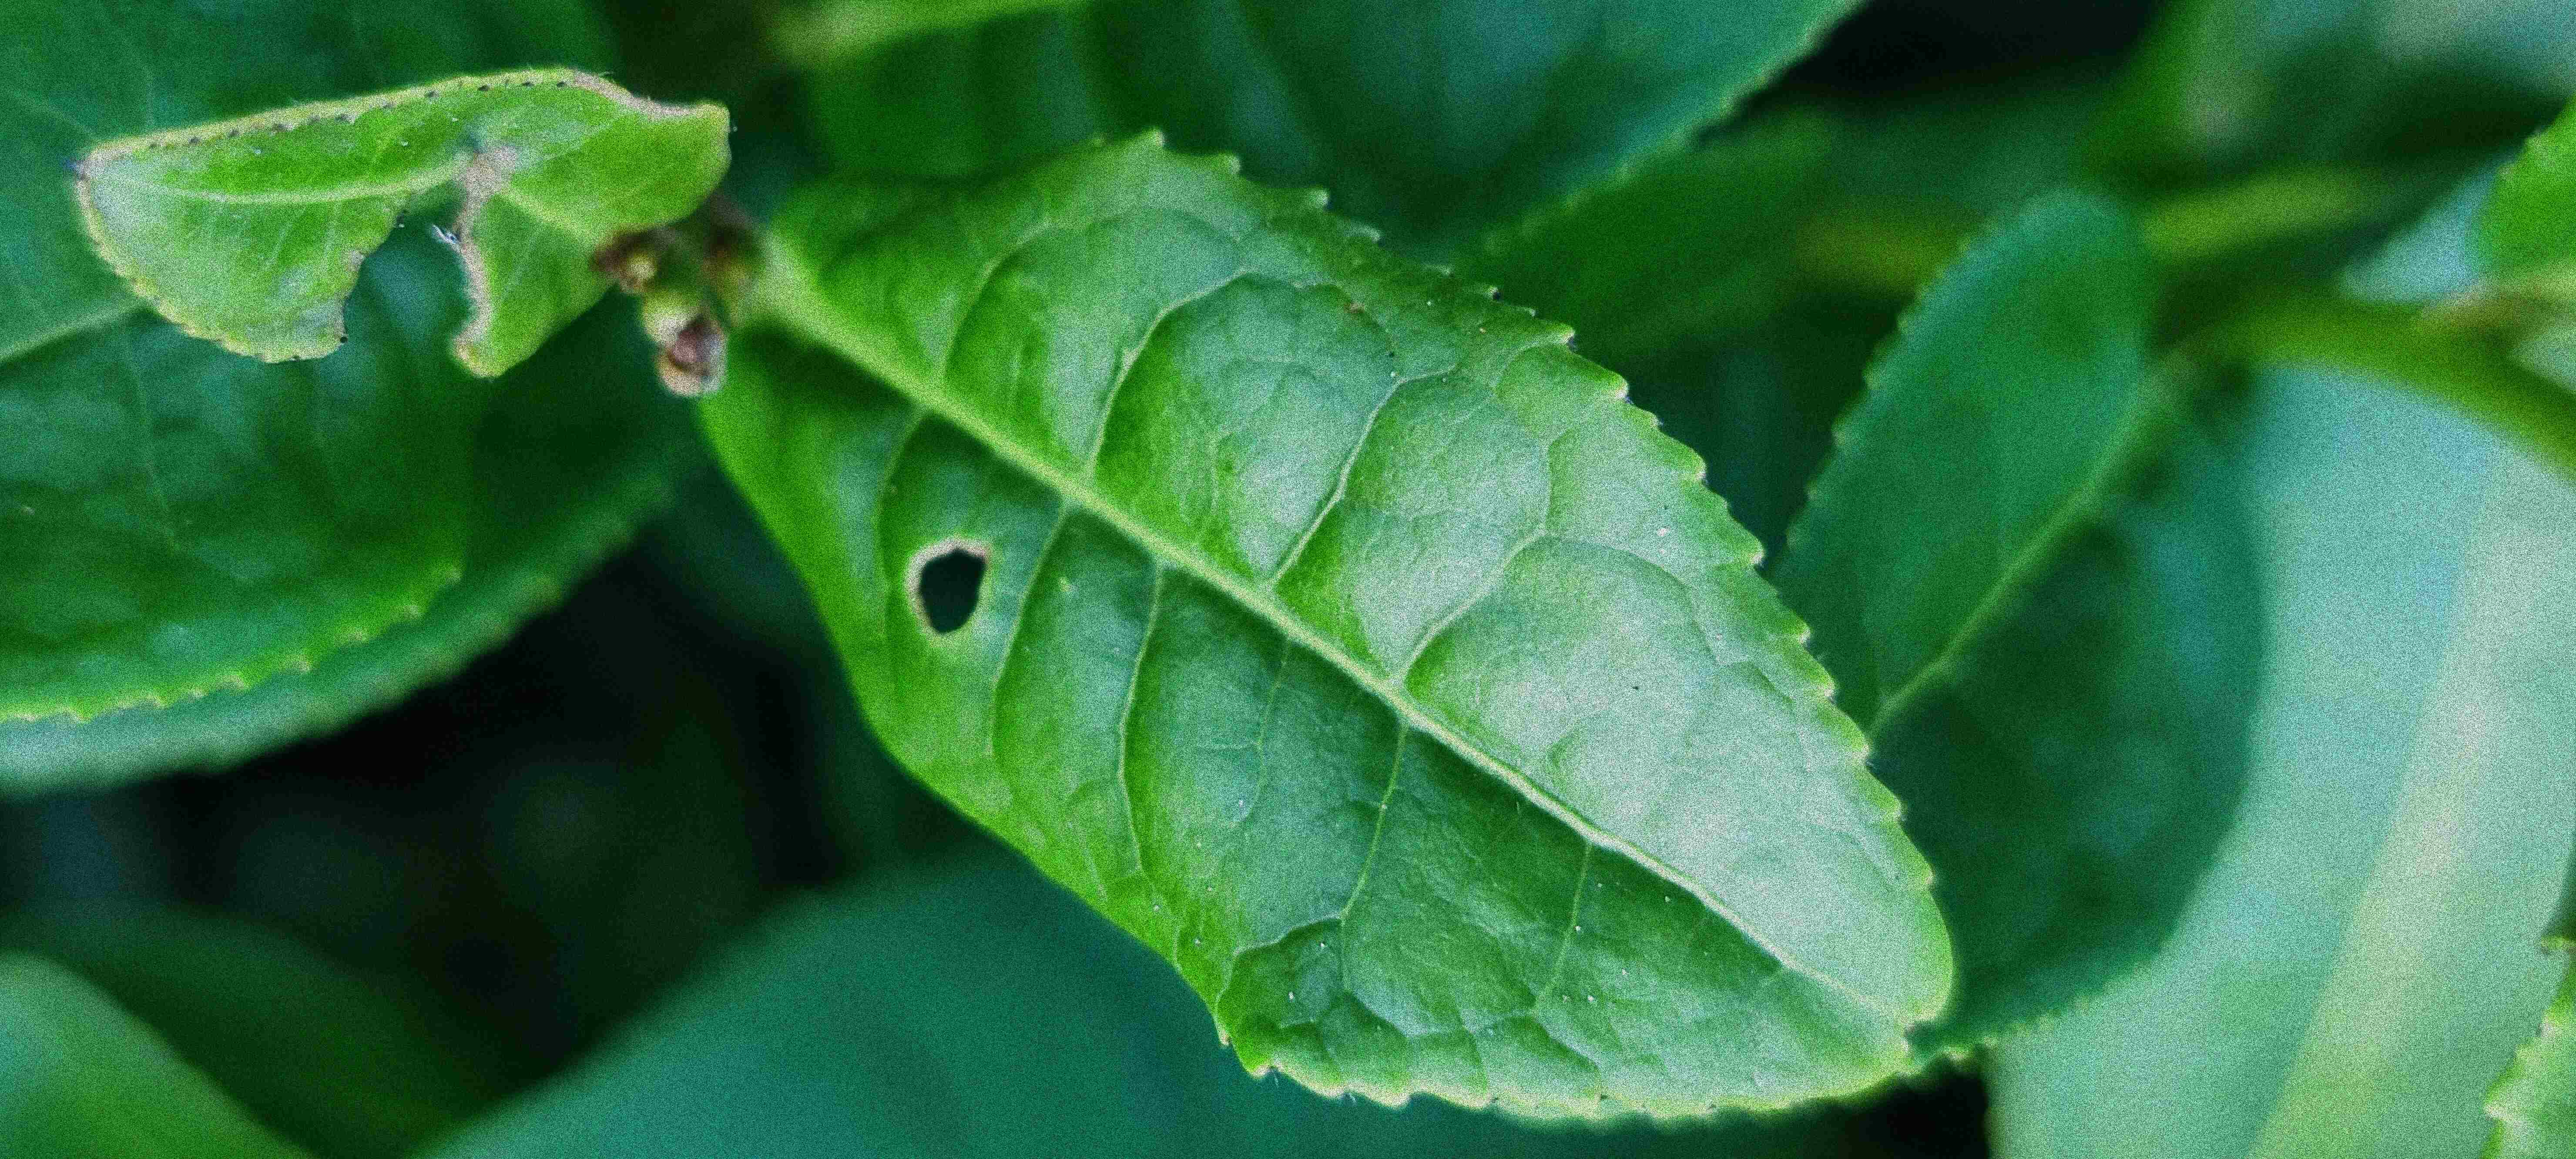chihuo_high: (72, 62, 743, 386)
chihuo_low: (685, 117, 1957, 1121)
